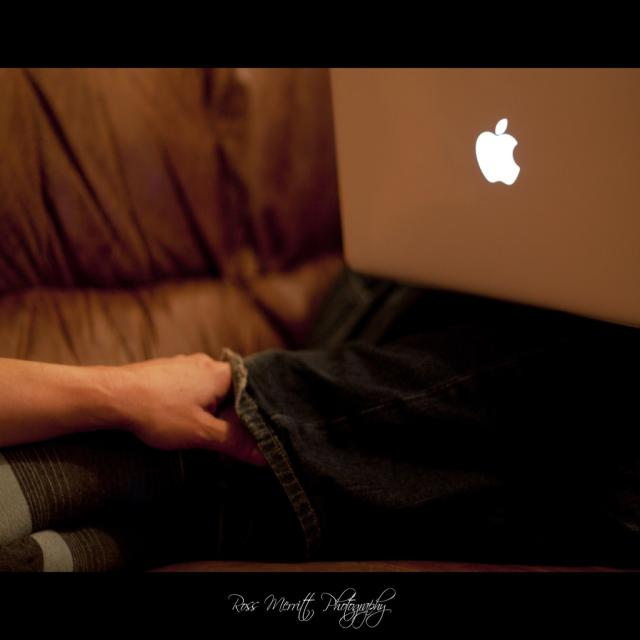apple: (473, 114, 525, 189)
